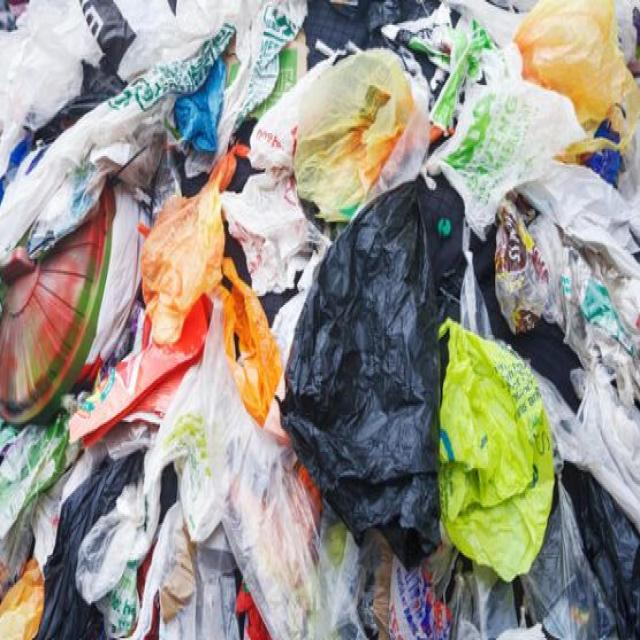general: (278, 174, 447, 566), (435, 316, 555, 583)
